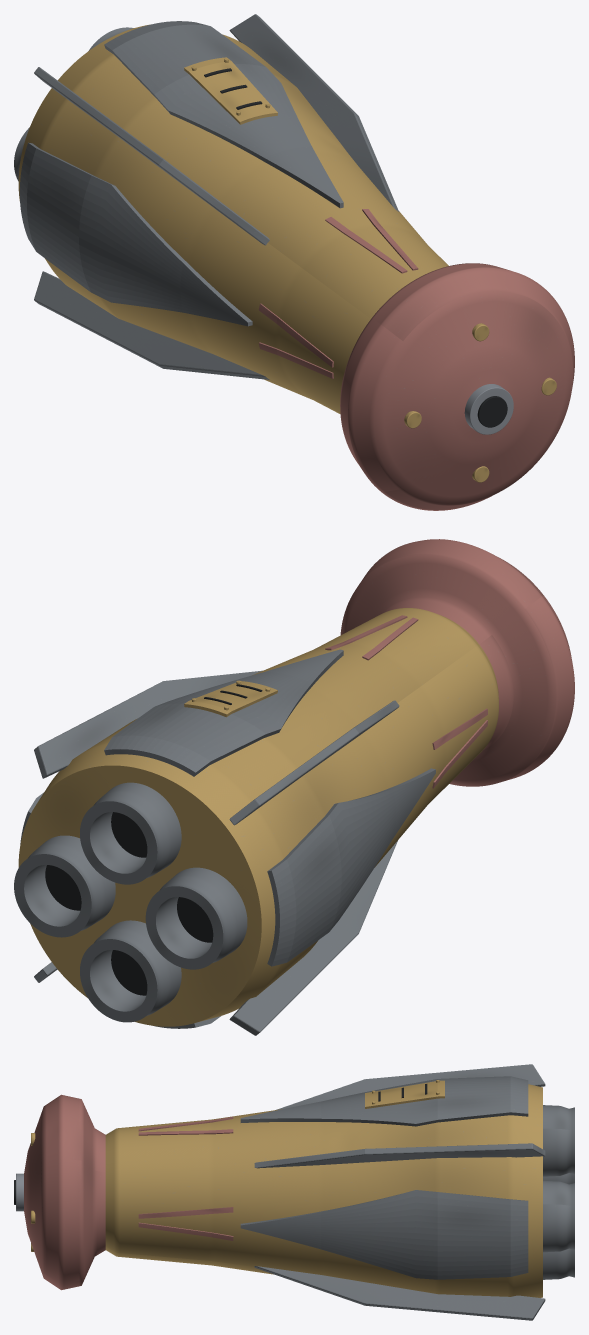
3 views of the same model, one above another, from view 1: azimuth 30°, elevation 25°; view 2: azimuth 150°, elevation 25°; view 3: azimuth 270°, elevation 25° (orthographic). The views are drawn at different scales.
Parts seen in each view (by area): view 1: WidowMaker gold pressure hull, WidowMaker rose nose, WidowMaker grey cheek 2, WidowMaker grey cheek 1, WidowMaker diagonal strake 2, WidowMaker diagonal strake 0, WidowMaker service cover 1, WidowMaker diagonal strake 1, WidowMaker central nose bezel, WidowMaker central nose face, WidowMaker rose neck accent 2 -1, WidowMaker rose neck accent 1 1; view 2: WidowMaker gold pressure hull, WidowMaker rose nose, WidowMaker grey cheek 2, WidowMaker grey cheek 1, WidowMaker aft duct housing 2, WidowMaker aft duct housing 1, WidowMaker aft duct housing 0, WidowMaker aft duct housing 3, WidowMaker diagonal strake 2, WidowMaker diagonal strake 0, WidowMaker diagonal strake 1, WidowMaker service cover 1 (+4 smaller); view 3: WidowMaker gold pressure hull, WidowMaker grey cheek 0, WidowMaker rose nose, WidowMaker grey cheek 1, WidowMaker diagonal strake 3, WidowMaker diagonal strake 0, WidowMaker diagonal strake 1, WidowMaker aft duct housing 0, WidowMaker aft duct housing 1, WidowMaker service cover 1, WidowMaker aft duct housing 3, WidowMaker rose neck accent 0 1 (+2 smaller).
Part boxes in pixels (x1,y1,x2,y2): WidowMaker gold pressure hull: (18, 24, 448, 413); WidowMaker rose nose: (340, 263, 574, 510); WidowMaker grey cheek 2: (19, 142, 252, 326); WidowMaker grey cheek 1: (104, 21, 343, 208); WidowMaker diagonal strake 2: (34, 271, 269, 379); WidowMaker diagonal strake 0: (229, 14, 398, 211); WidowMaker service cover 1: (184, 57, 277, 124); WidowMaker diagonal strake 1: (34, 67, 269, 245); WidowMaker central nose bezel: (464, 384, 513, 434); WidowMaker central nose face: (477, 396, 507, 427); WidowMaker rose neck accent 2 -1: (258, 303, 333, 367); WidowMaker rose neck accent 1 1: (325, 217, 407, 273); WidowMaker gold pressure hull: (18, 608, 498, 1026); WidowMaker rose nose: (340, 539, 574, 786); WidowMaker grey cheek 2: (267, 768, 435, 966); WidowMaker grey cheek 1: (104, 649, 343, 776); WidowMaker aft duct housing 2: (145, 867, 247, 969); WidowMaker aft duct housing 1: (80, 782, 181, 884); WidowMaker aft duct housing 0: (14, 835, 115, 937); WidowMaker aft duct housing 3: (80, 920, 181, 1022); WidowMaker diagonal strake 2: (229, 840, 397, 1035); WidowMaker diagonal strake 0: (34, 670, 262, 778); WidowMaker diagonal strake 1: (229, 700, 399, 825); WidowMaker service cover 1: (184, 681, 277, 717); WidowMaker gold pressure hull: (105, 1084, 542, 1297); WidowMaker grey cheek 0: (240, 1190, 528, 1279); WidowMaker rose nose: (24, 1094, 105, 1290); WidowMaker grey cheek 1: (240, 1076, 528, 1126); WidowMaker diagonal strake 3: (254, 1266, 545, 1320); WidowMaker diagonal strake 0: (254, 1143, 545, 1168); WidowMaker diagonal strake 1: (276, 1064, 545, 1109); WidowMaker aft duct housing 0: (543, 1180, 574, 1252); WidowMaker aft duct housing 1: (543, 1105, 574, 1176); WidowMaker service cover 1: (365, 1080, 444, 1108); WidowMaker aft duct housing 3: (543, 1248, 574, 1279); WidowMaker rose neck accent 0 1: (138, 1207, 233, 1218).
Bounding box in the file's own units: 1.6 × 1.61 × 3.84.
5 materials, 3 textured.
